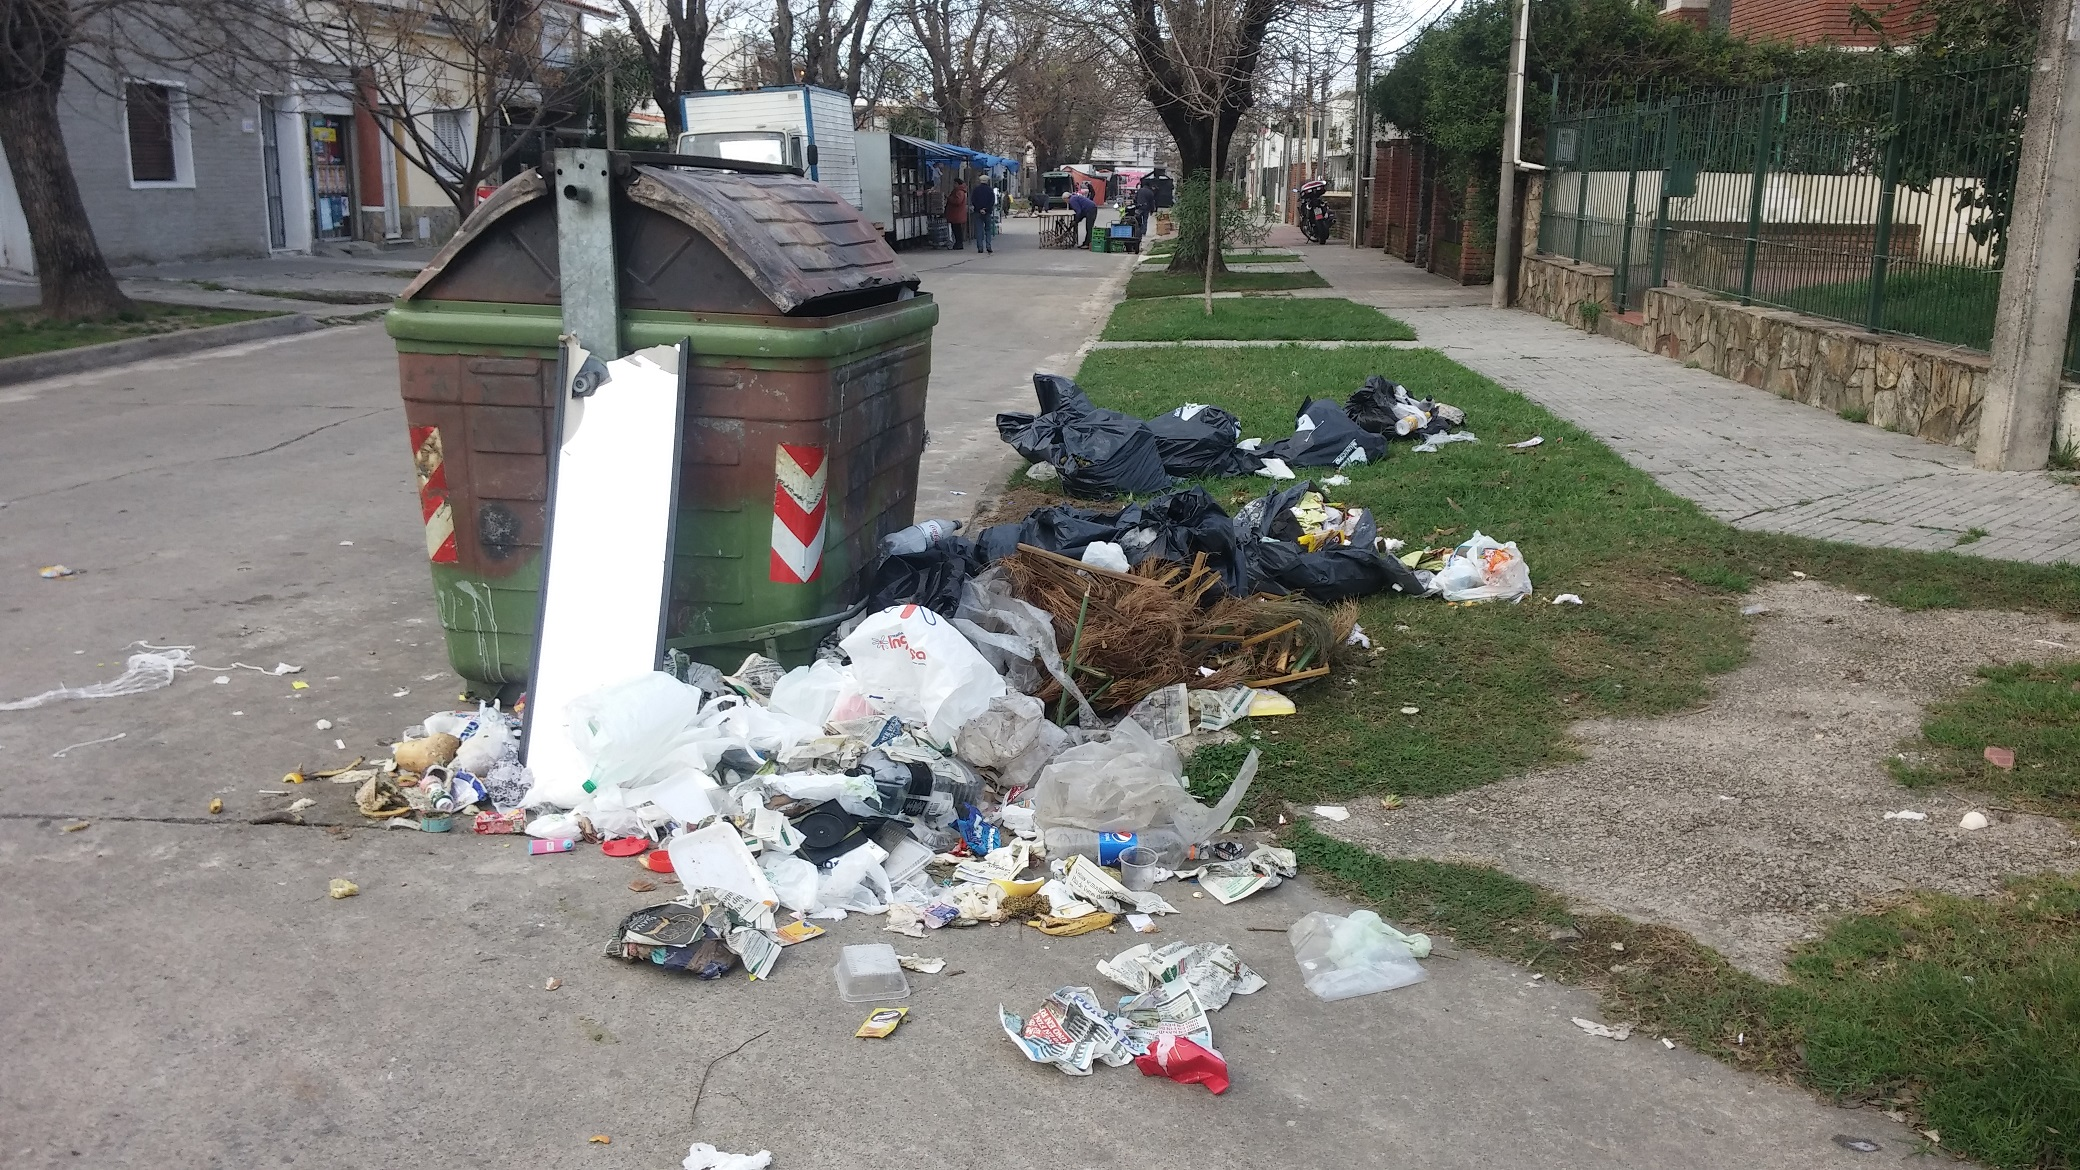container: (380, 134, 943, 734)
